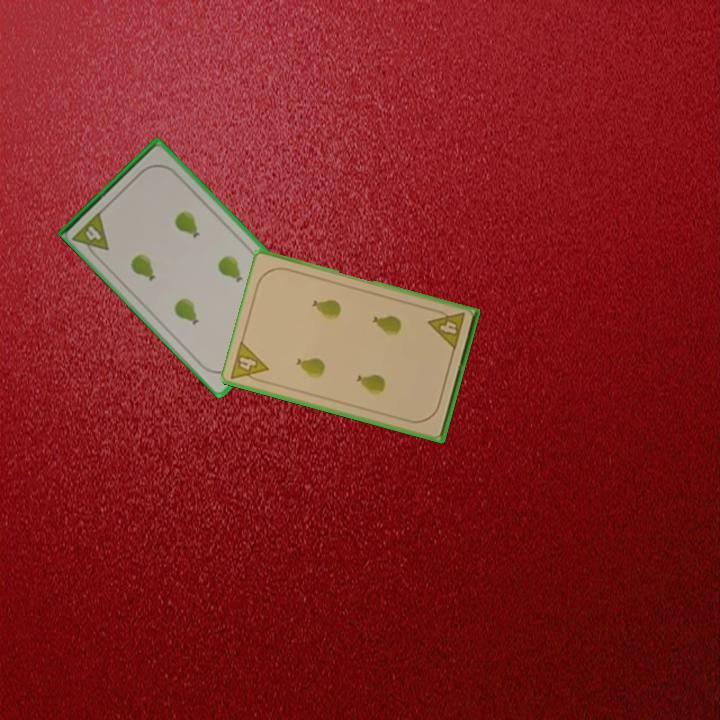4p: (69, 207, 112, 262), (227, 338, 272, 387), (425, 305, 467, 353)
